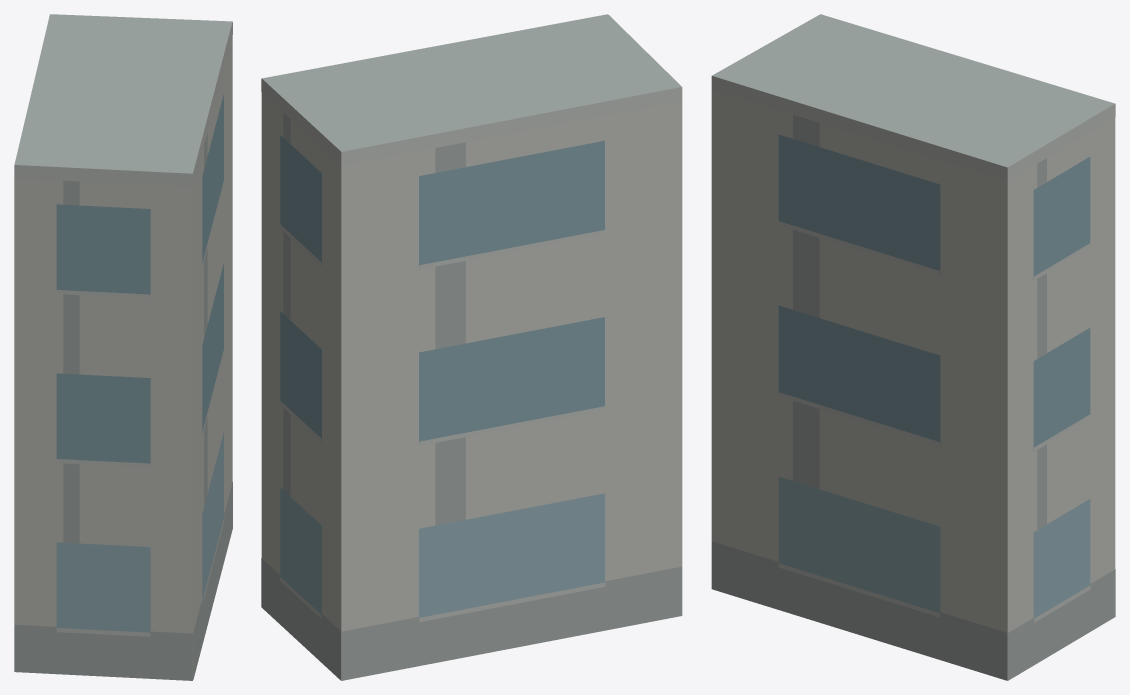
Rendered from survey-upis-32983795.glb.
The picture shows the model from 3 angles, left to right: view 1: azimuth 30°, elevation 25°; view 2: azimuth 150°, elevation 25°; view 3: azimuth 270°, elevation 25°; orthographic projection. The views are drawn at different scales.
Visible parts, largest first — view 1: survey-upis-32983795.tmp; view 2: survey-upis-32983795.tmp; view 3: survey-upis-32983795.tmp.
Part boxes in pixels (bbox=[...]): survey-upis-32983795.tmp: bbox=[14, 14, 232, 680]; survey-upis-32983795.tmp: bbox=[261, 14, 682, 680]; survey-upis-32983795.tmp: bbox=[711, 14, 1115, 680].
Bounding box in the file's own units: 5.88 × 9.15 × 6.53.
